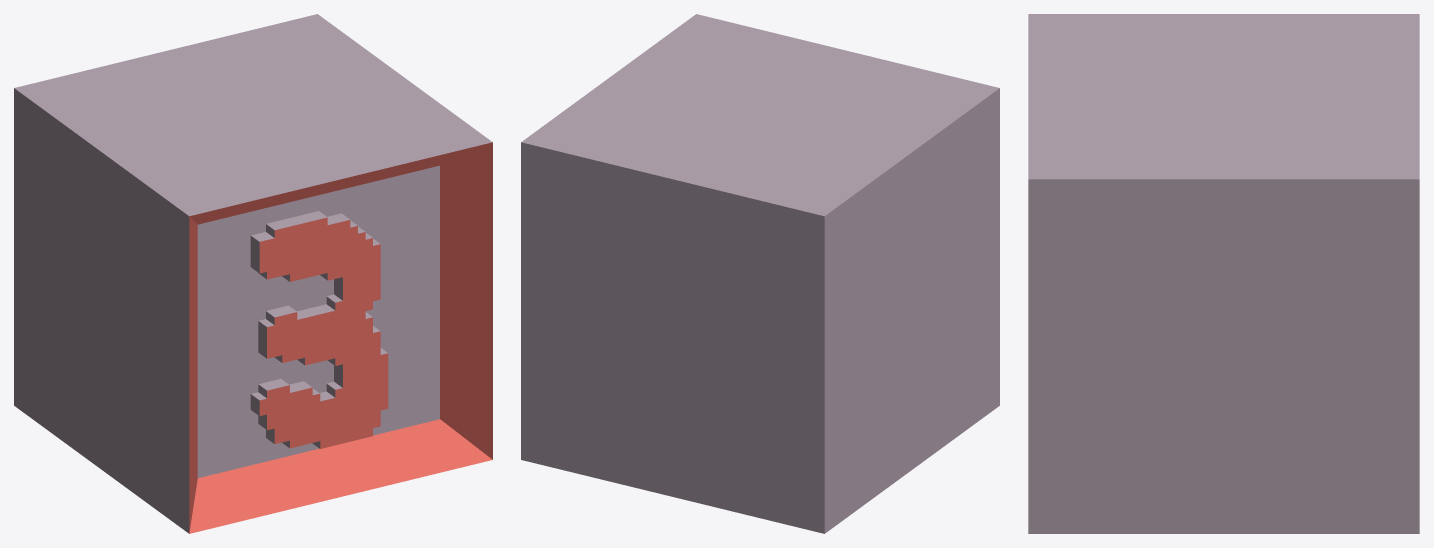
Rendered from Block3.fbx.
The picture shows the model from 3 angles, left to right: view 1: azimuth 30°, elevation 25°; view 2: azimuth 150°, elevation 25°; view 3: azimuth 270°, elevation 25°; orthographic projection. The views are drawn at different scales.
Parts seen in each view (by area): view 1: Cube; view 2: Cube; view 3: Cube.
Boxes of the visible parts, box(x1,y1,x2,y2) form: Cube: box(14, 14, 492, 533); Cube: box(521, 14, 999, 533); Cube: box(1028, 14, 1419, 533).
Bounding box in the file's own units: 2000 × 2000 × 2000.
